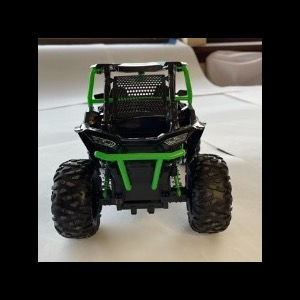polaris: (51, 59, 234, 241)
